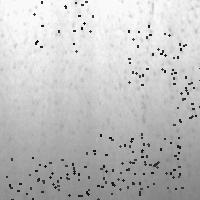pitted_surface: (4, 2, 130, 111), (136, 2, 198, 197), (86, 133, 146, 193), (128, 25, 185, 84), (124, 137, 181, 193), (32, 0, 92, 50), (6, 157, 66, 200), (37, 163, 97, 200), (171, 67, 200, 124)
